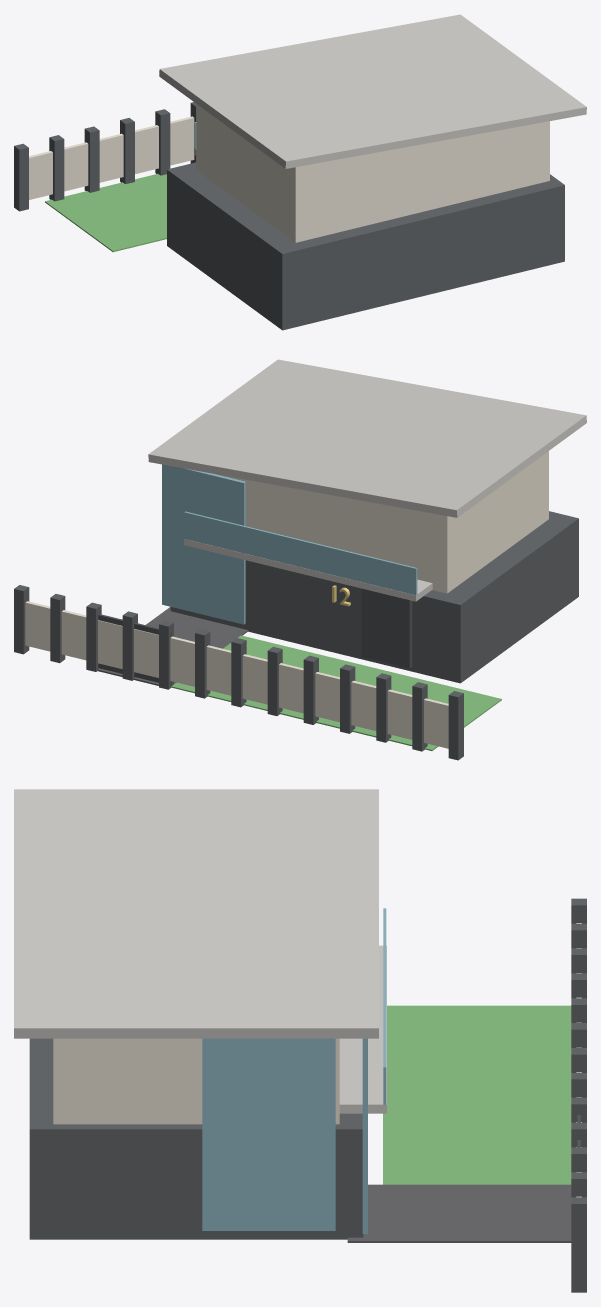
The model's file is lekki_duplex_b.glb.
3 views of the same model, one above another, from view 1: azimuth 30°, elevation 25°; view 2: azimuth 150°, elevation 25°; view 3: azimuth 270°, elevation 25° (orthographic). The views are drawn at different scales.
Parts seen in each view (by area): view 1: BLD_lekki_duplex_b; view 2: BLD_lekki_duplex_b; view 3: BLD_lekki_duplex_b.
Boxes of the visible parts, x1,y1,x2,y2 form: BLD_lekki_duplex_b: [14, 14, 586, 330]; BLD_lekki_duplex_b: [14, 359, 586, 760]; BLD_lekki_duplex_b: [14, 789, 586, 1292].
Size of the model in its own units: 18.4 by 7.03 by 14.6.
